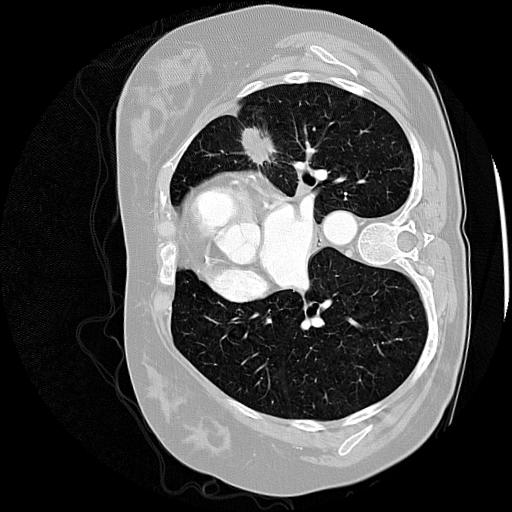nodule: (236, 127, 275, 166)
